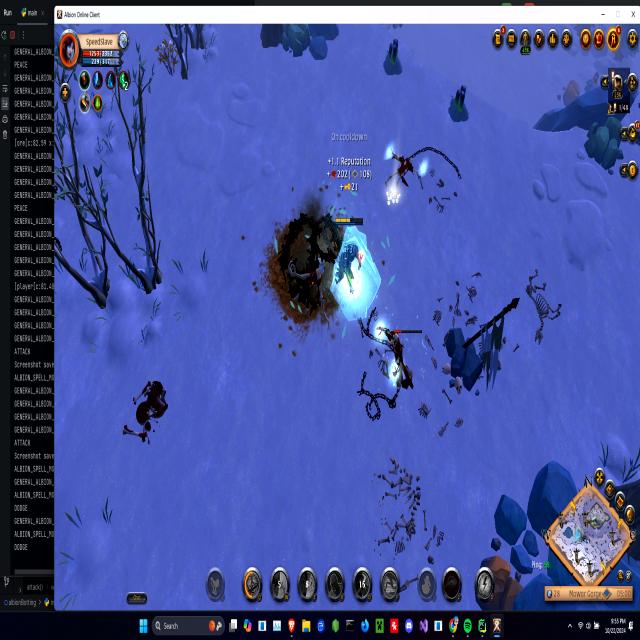ore: (375, 319, 425, 409)
red: (331, 208, 366, 297)
stone: (384, 181, 402, 208)
tree: (585, 109, 629, 180)
